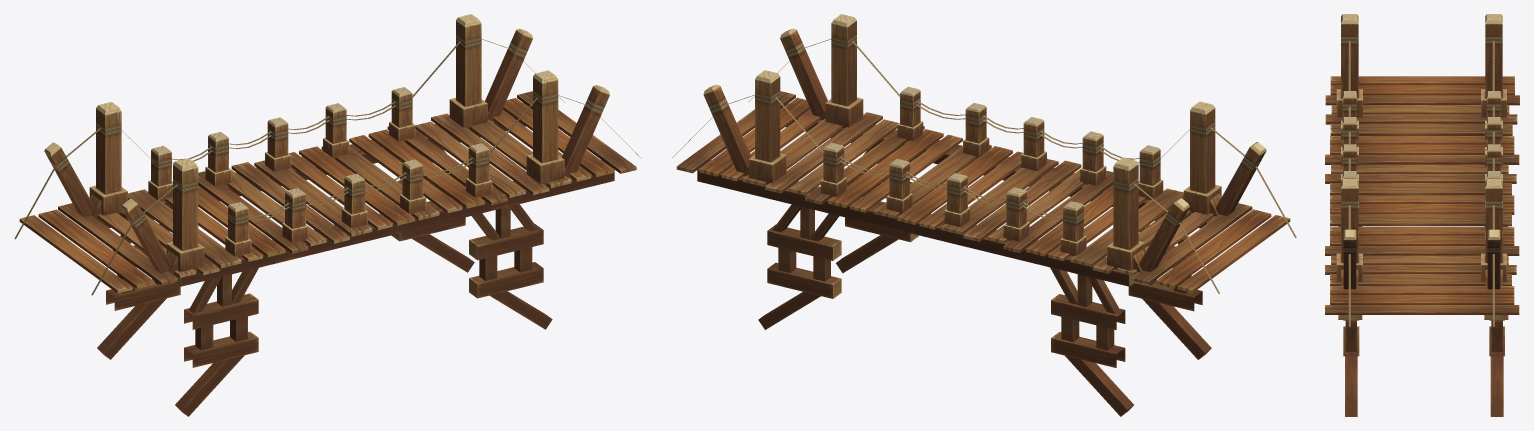
File: Stage_ShaMo_Qiao02.FBX
The picture shows the model from 3 angles, left to right: view 1: azimuth 30°, elevation 25°; view 2: azimuth 150°, elevation 25°; view 3: azimuth 270°, elevation 25°; orthographic projection. The views are drawn at different scales.
Visible parts, largest first — view 1: Stage_ShaMo_Qiao02; view 2: Stage_ShaMo_Qiao02; view 3: Stage_ShaMo_Qiao02.
Boxes of the visible parts, x1,y1,x2,y2 form: Stage_ShaMo_Qiao02: (14, 14, 640, 416); Stage_ShaMo_Qiao02: (672, 14, 1296, 416); Stage_ShaMo_Qiao02: (1325, 14, 1519, 416).
Bounding box in the file's own units: 1511 × 663 × 495.
